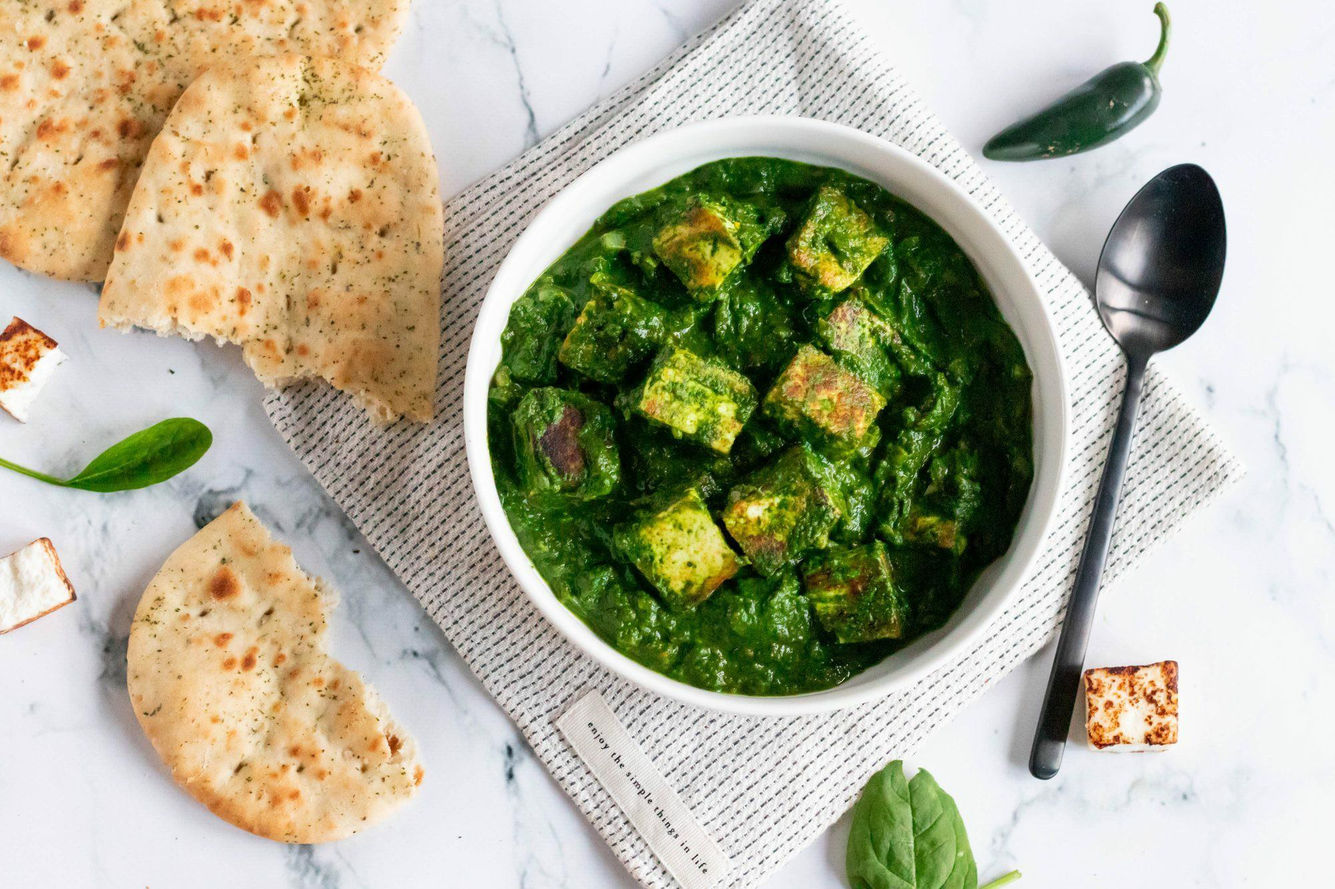PalakPaneer: (486, 156, 1029, 698)
